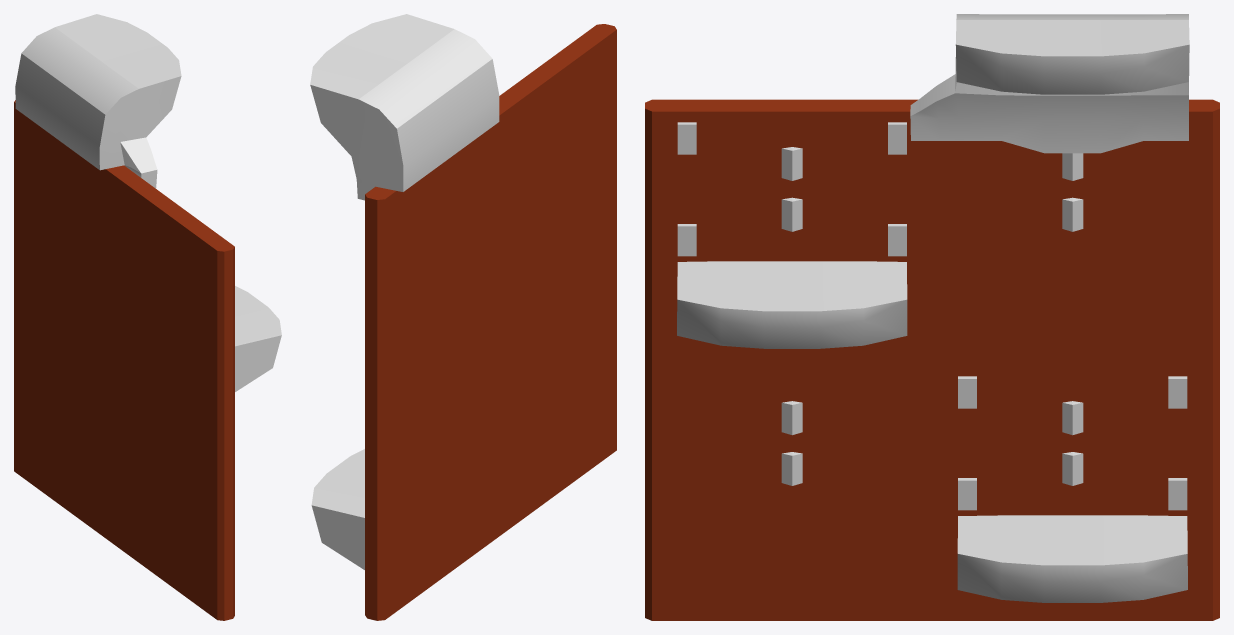
Rendered from Wall_2_1-Ladder_C.fbx.
3 renders of one model, left to right at view 1: azimuth 30°, elevation 25°; view 2: azimuth 150°, elevation 25°; view 3: azimuth 270°, elevation 25°, orthographic. The views are drawn at different scales.
Parts seen in each view (by area): view 1: Wall/2_1-Ladder_C, Ladder_Ledge, Ladder.002; view 2: Wall/2_1-Ladder_C, Ladder_Ledge, Ladder.002; view 3: Wall/2_1-Ladder_C, Ladder.002, Ladder_Ledge.
Boxes of the visible parts, x1,y1,x2,y2 form: Wall/2_1-Ladder_C: (14, 100, 234, 620); Ladder_Ledge: (15, 14, 181, 188); Ladder.002: (235, 286, 281, 391); Wall/2_1-Ladder_C: (365, 24, 616, 620); Ladder_Ledge: (310, 14, 499, 200); Ladder.002: (311, 449, 364, 569); Wall/2_1-Ladder_C: (645, 99, 1219, 620); Ladder.002: (677, 122, 1187, 602); Ladder_Ledge: (910, 14, 1189, 153).
Size of the model in its own units: 1.14 by 4.1 by 4.84.
